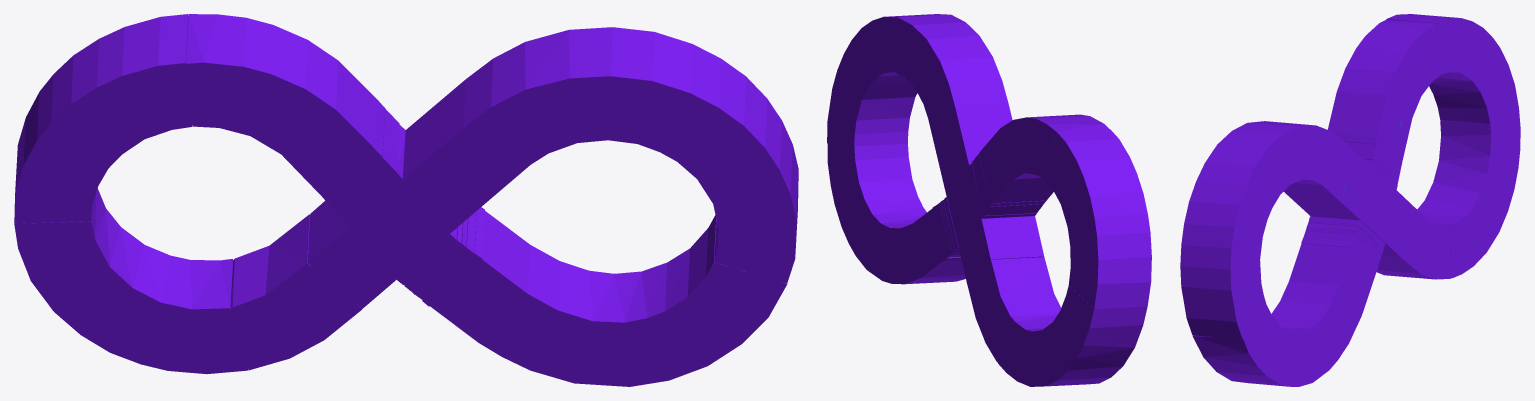
The model's file is devfuzzion_reduced.glb.
3 renders of one model, left to right at view 1: azimuth 30°, elevation 25°; view 2: azimuth 150°, elevation 25°; view 3: azimuth 270°, elevation 25°, orthographic. The views are drawn at different scales.
Parts seen in each view (by area): view 1: node_id5; view 2: node_id5; view 3: node_id5.
Part boxes in pixels (left/top/right/bottom): node_id5: left=14, top=14, right=798, bottom=386; node_id5: left=827, top=14, right=1151, bottom=386; node_id5: left=1180, top=14, right=1520, bottom=386.
Bounding box in the file's own units: 0.5177 × 0.2869 × 0.356.
Materials: 1 (1 with a texture image).
